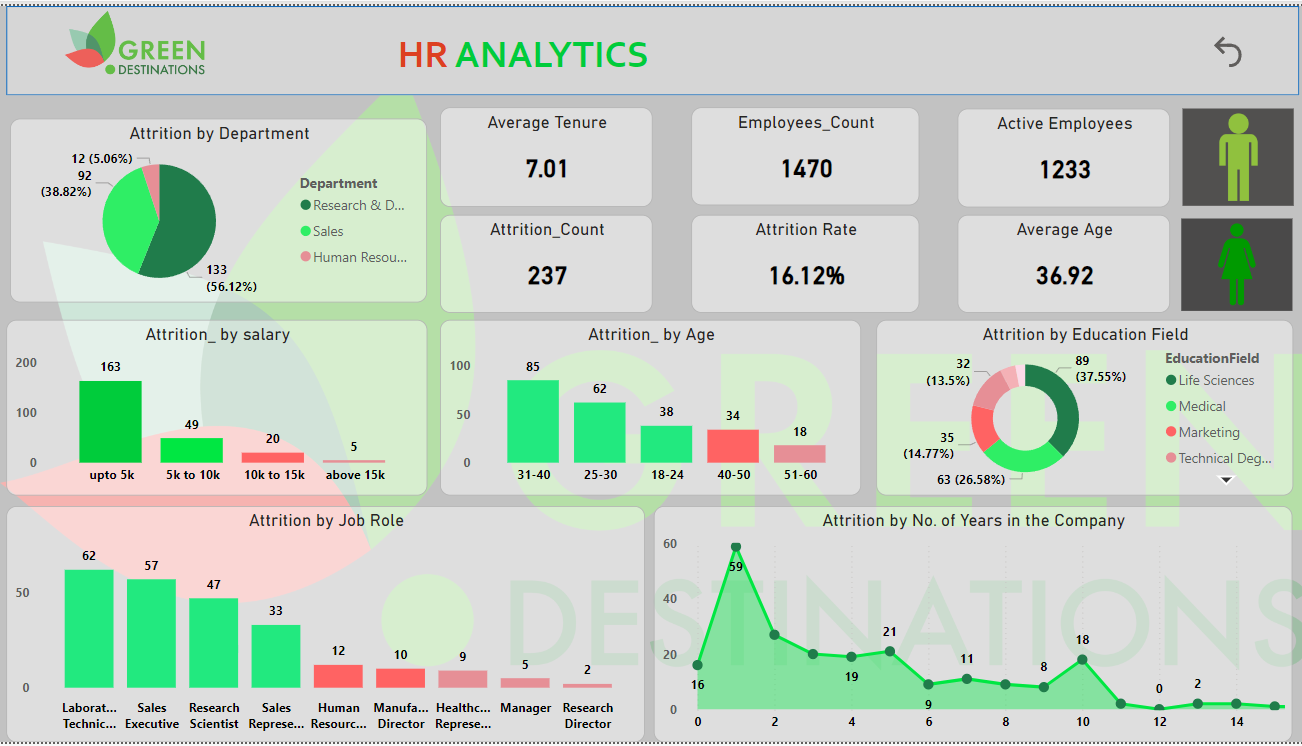

The dashboard page shown, as its layout file describes it:
{"tool":"powerbi","page":{"name":"DashBoard","canvas":[1280,720],"ordinal":0},"visuals":[{"type":"shape","title":"Title Shape","box":[5.9,0,1264.9,87.5],"z":0},{"type":"card","title":"Attrition_Count","fields":{"Values":["Sum(greendestination (1).Attrition_)"]},"box":[429.9,204.6,208.3,96.3],"z":0,"group":"g1"},{"type":"card","title":"Employees_Count","fields":{"Values":["Sum(greendestination (1).EmployeeCount)"]},"box":[676.2,99.4,223.5,96.3],"z":1000,"group":"g1"},{"type":"clusteredColumnChart","title":" Attrition by Job Role","fields":{"Y":["Sum(greendestination (1).Attrition_)"],"Category":["greendestination (1).JobRole"]},"box":[5.6,489.7,625,231],"z":1000},{"type":"card","title":"Attrition Rate","fields":{"Values":["Measure.Attrition %"]},"box":[676.2,204.6,223.5,96.3],"z":2000,"group":"g1"},{"type":"areaChart","title":"Attrition by No. of Years in the Company","fields":{"Y":["Sum(greendestination (1).Attrition_)"],"Category":["greendestination (1).YearsAtCompany"]},"box":[640,489.7,624.7,231],"z":2000},{"type":"card","title":"Average Age","fields":{"Values":["Avg(greendestination (1).Age)"]},"box":[936.3,204.6,208.3,96.3],"z":3000,"group":"g1"},{"type":"clusteredColumnChart","title":"Attrition_ by salary","fields":{"Category":["greendestination (1).salary_slab"],"Y":["Sum(greendestination (1).Attrition_)"]},"box":[5.9,307,412.2,172],"z":3000},{"type":"card","title":"Average Tenure","fields":{"Values":["Avg(greendestination (1).YearsAtCompany)"]},"box":[429.9,99.4,208.3,97.8],"z":4000,"group":"g1"},{"type":"donutChart","title":"Attrition by Education Field","fields":{"Category":["greendestination (1).EducationField"],"Y":["Sum(greendestination (1).Attrition_)"]},"box":[857.1,307,407.8,172],"z":4000},{"type":"card","title":"Active Employees","fields":{"Values":["Measure.Active employees"]},"box":[936.3,100.9,208.3,96.9],"z":5000,"group":"g1"},{"type":"clusteredColumnChart","title":"Attrition_ by Age","fields":{"Y":["Sum(greendestination (1).Attrition_)"],"Category":["greendestination (1).Age (groups)"]},"box":[430,307,412.2,172],"z":5000},{"type":"pieChart","title":"Attrition by Department","fields":{"Category":["greendestination (1).Department"],"Y":["Sum(greendestination (1).Attrition_)"]},"box":[9.4,110.2,408.4,180],"z":6000},{"type":"image","title":"Company Logo","box":[0,0,283.8,72.3],"z":7000},{"type":"image","title":"Male Icon","box":[1156.7,100.8,108.8,95.4],"z":8000},{"type":"image","title":"Female ICon","box":[1155.3,208.2,108.8,90],"z":9000},{"type":"group","id":"g1","title":"KPIS","box":[429.9,99.4,714.7,201.5],"z":10000},{"type":"textbox","box":[234.3,19.3,562,68.2],"z":11000},{"type":"actionButton","box":[1180.9,24.2,60.5,40.3],"z":12000}]}

Visuals, with their boxes in screenshot pixels (x1, y1, x2, y2), scaled from the page's 1280x720 canvas onto the 1302x746 screenshot:
"Title Shape" shape: 6 0 1293 91
"Attrition_Count" card: 437 212 649 312
"Employees_Count" card: 688 103 915 203
" Attrition by Job Role" clusteredColumnChart: 6 507 641 745
"Attrition Rate" card: 688 212 915 312
"Attrition by No. of Years in the Company" areaChart: 651 507 1286 745
"Average Age" card: 952 212 1164 312
"Attrition_ by salary" clusteredColumnChart: 6 318 425 496
"Average Tenure" card: 437 103 649 204
"Attrition by Education Field" donutChart: 872 318 1287 496
"Active Employees" card: 952 105 1164 205
"Attrition_ by Age" clusteredColumnChart: 437 318 857 496
"Attrition by Department" pieChart: 10 114 425 301
"Company Logo" image: 0 0 289 75
"Male Icon" image: 1177 104 1287 203
"Female ICon" image: 1175 216 1286 309
"KPIS" group: 437 103 1164 312
textbox: 238 20 810 91
actionButton: 1201 25 1263 67
